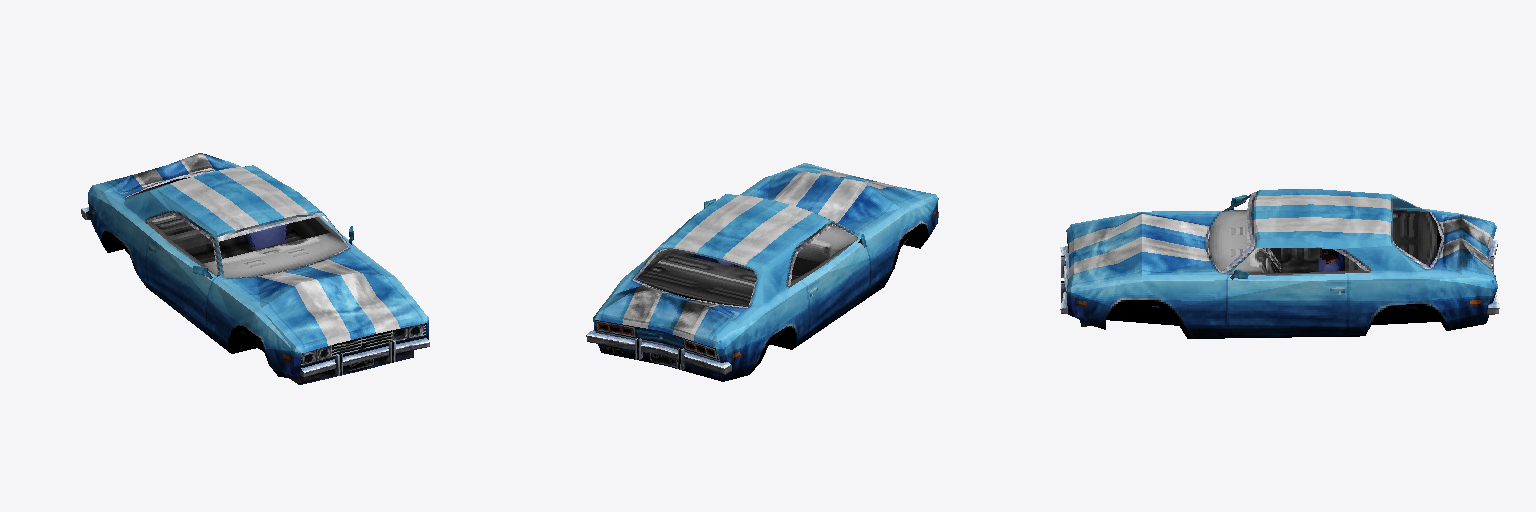
3 views of the same model, side by side, from view 1: azimuth 30°, elevation 25°; view 2: azimuth 150°, elevation 25°; view 3: azimuth 270°, elevation 25° (orthographic).
Bounding box in the file's own units: 0.8157 × 0.4561 × 1.92.
Materials: 1 (1 with a texture image).